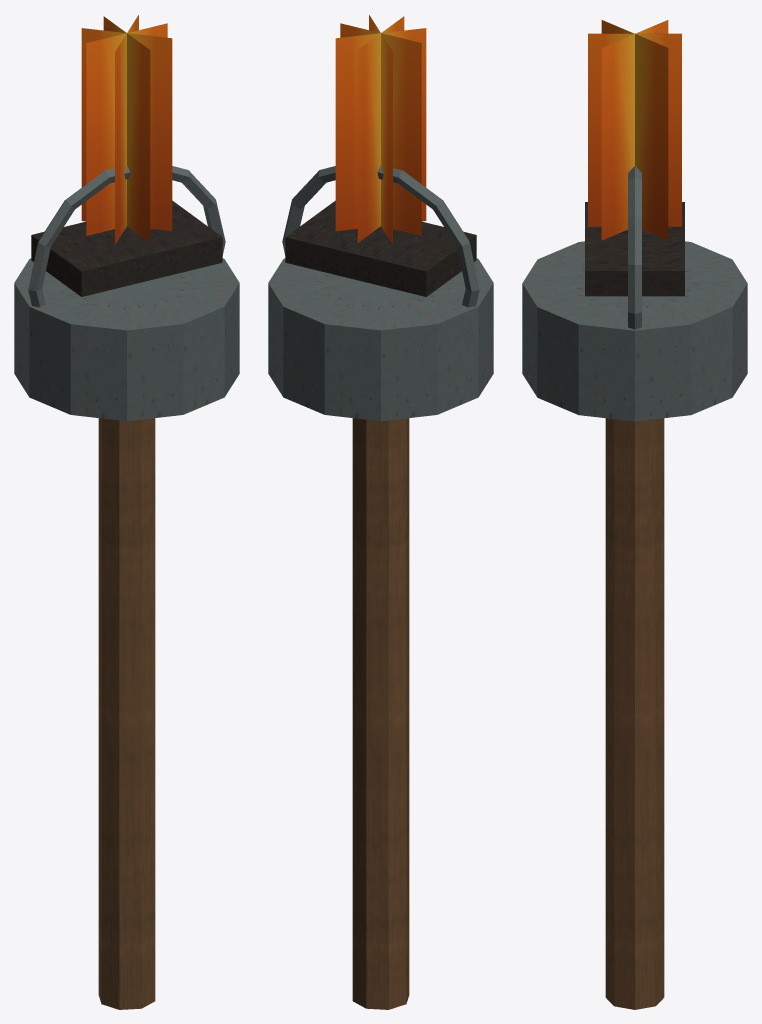
The model's file is en-021_torch_stand__lit.obj.
3 renders of one model, left to right at view 1: azimuth 30°, elevation 25°; view 2: azimuth 150°, elevation 25°; view 3: azimuth 270°, elevation 25°, orthographic.
Visible parts, largest first — view 1: en-021_torch_stand__lit; view 2: en-021_torch_stand__lit; view 3: en-021_torch_stand__lit.
Part boxes in pixels (<box>): en-021_torch_stand__lit: <box>14,15,239,1009</box>; en-021_torch_stand__lit: <box>268,15,493,1009</box>; en-021_torch_stand__lit: <box>522,20,747,1009</box>.
Bounding box in the file's own units: 0.364 × 1.7 × 0.36.
4 materials, 4 textured.
